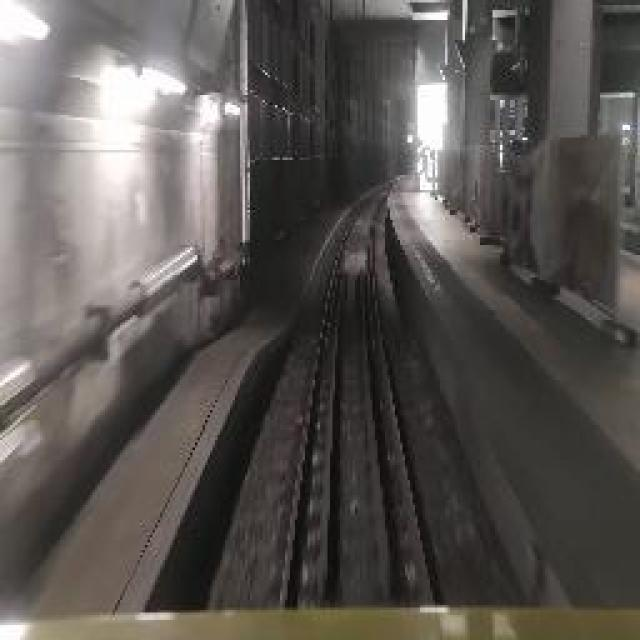rail: (258, 167, 450, 615)
